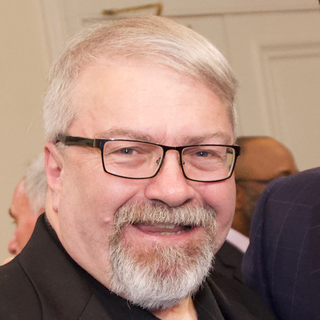eye: (102, 138, 146, 164), (183, 142, 224, 166)
